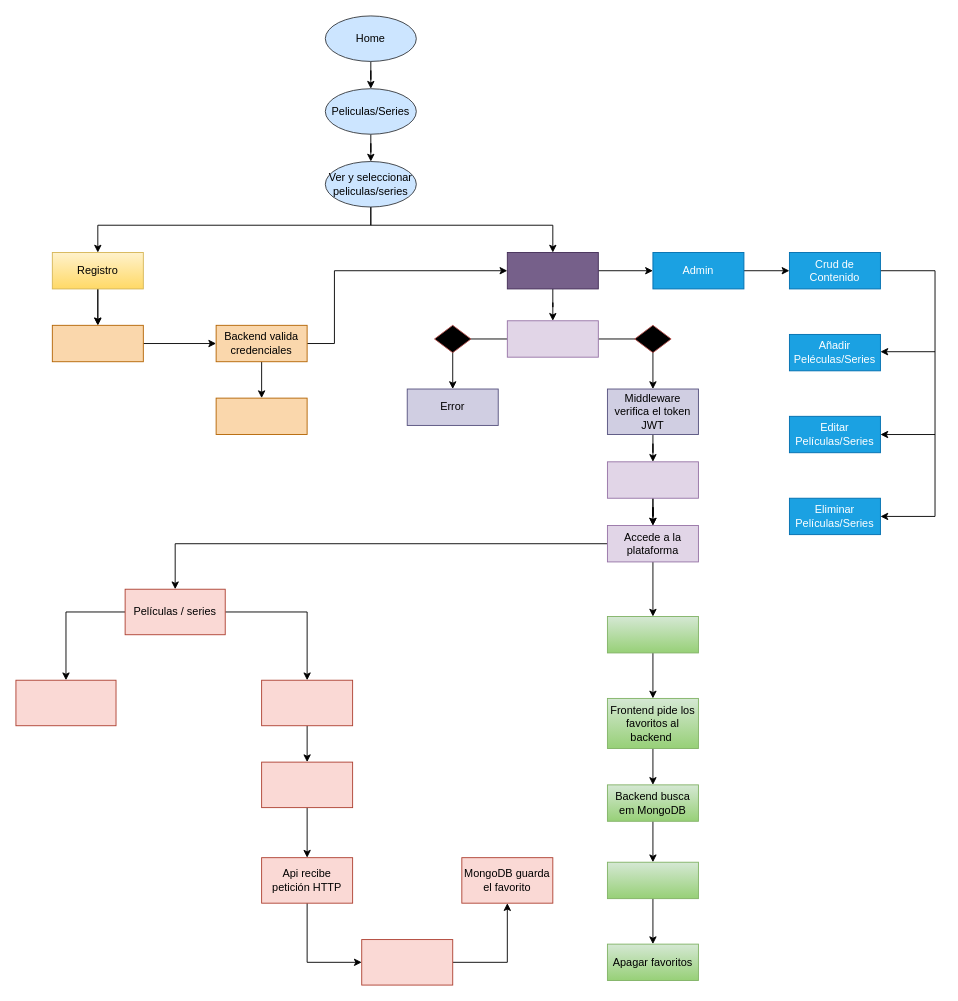
This 958x1001 diagram has some shape labels left out. The shapes that lost their labels are listed below. From the top down, each one's centre as x and y in pixels, then its label:
the point at 552,270: Login
the point at 97,343: Introducir Datos
the point at 552,338: User validar Datos
the point at 261,416: MongoDB guarda usuario
the point at 652,479: Frontend guarda token JWT
the point at 652,634: Favoritos
the point at 65,702: Explorar Películas/Series
the point at 307,702: Añadir a Favoritos
the point at 307,784: Frontend envia petición HTTP
the point at 652,880: Ver favoritos Guardados
the point at 407,962: Controller procesa el favorito
